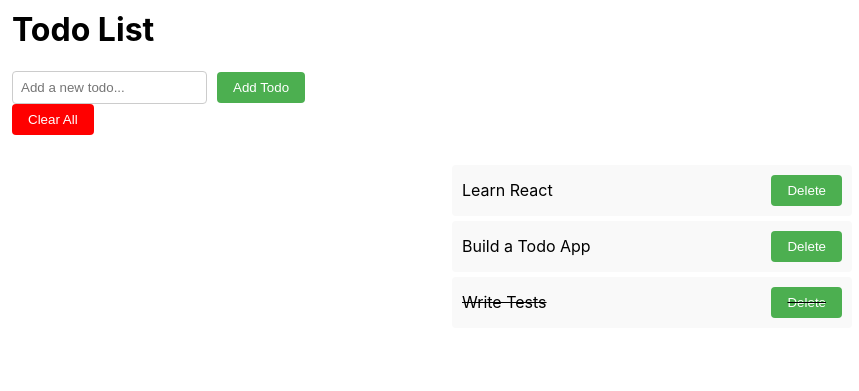
Test: adds a new todo
This screenshot has width=859, height=391.
Type "New Test Todo" into the field with test id "todo-input" at (110,87), box x1=12 y1=71 x2=207 y2=104
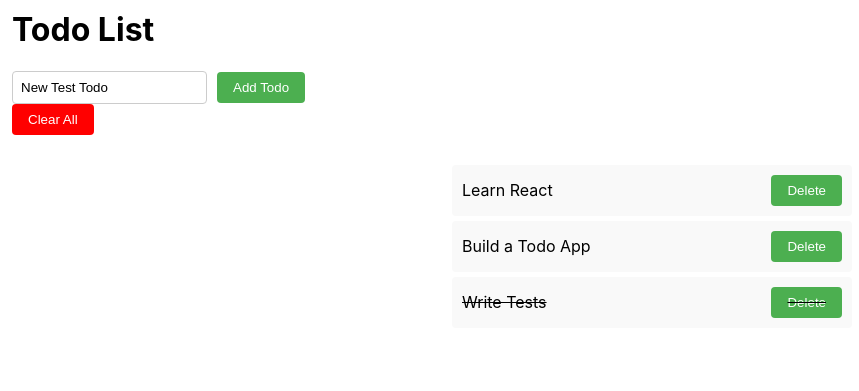
Click the button with test id "add-button" at (261,87), box x1=217 y1=72 x2=305 y2=103
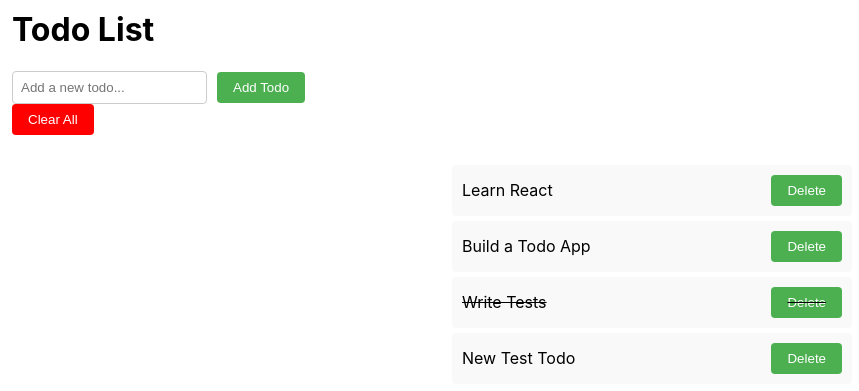
Expected: the text "New Test Todo" is shown, x1=462 y1=348 x2=575 y2=368
